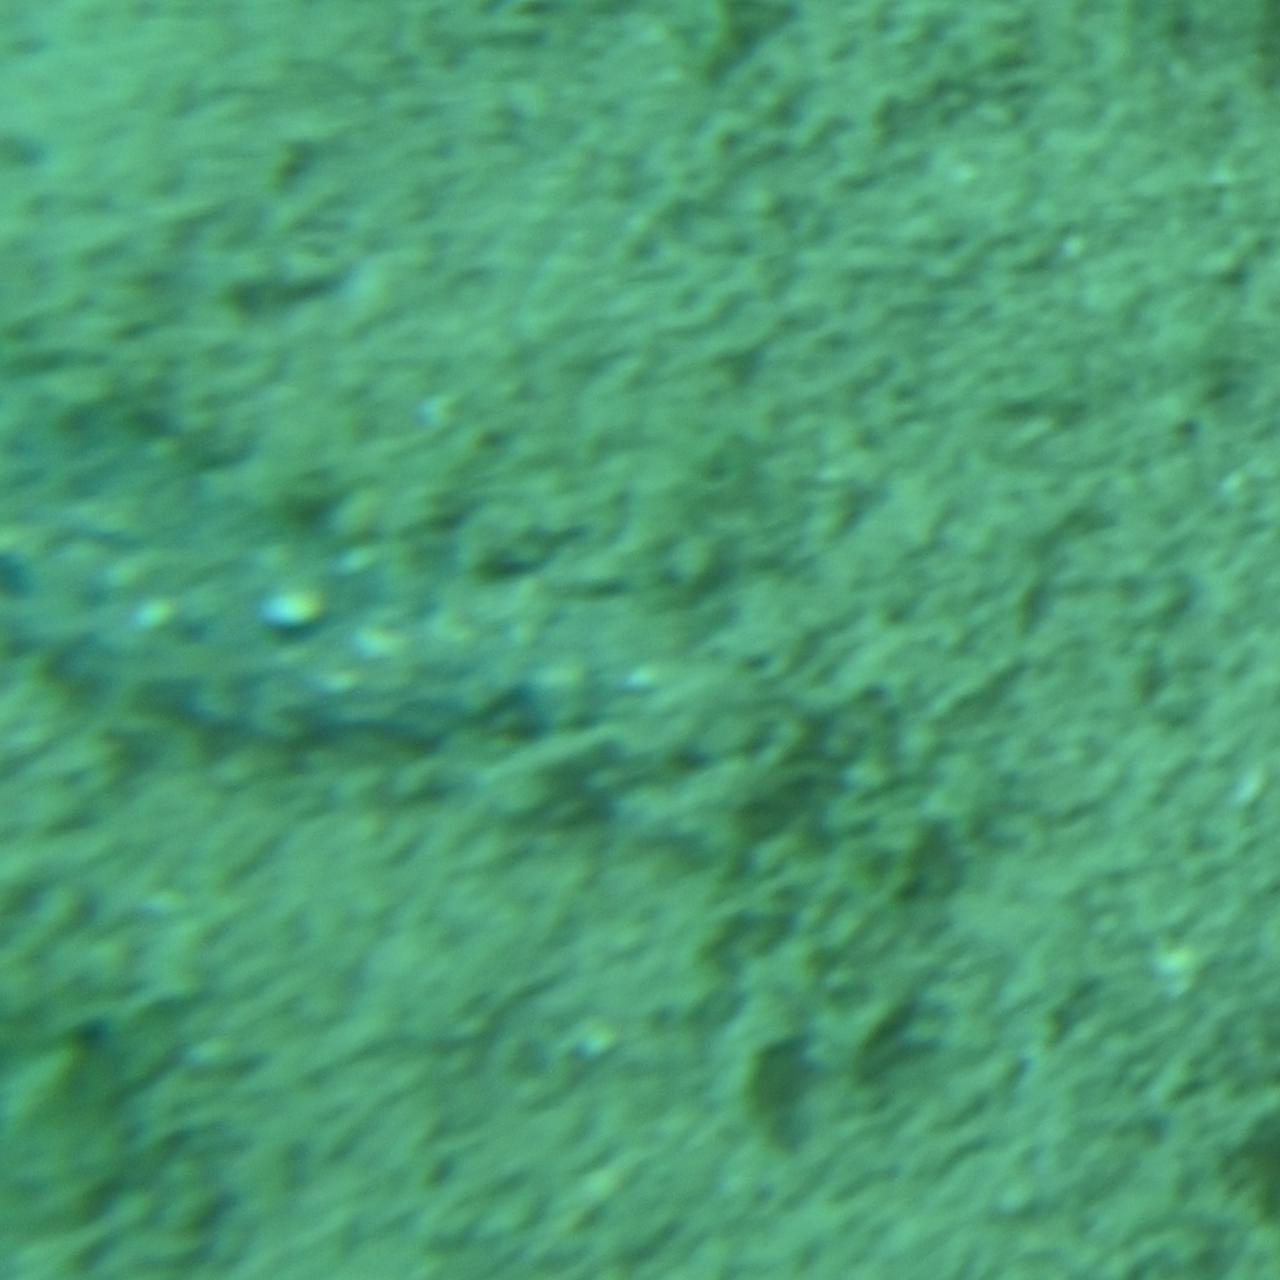Holothuria tubulosa: (2, 477, 724, 803)
